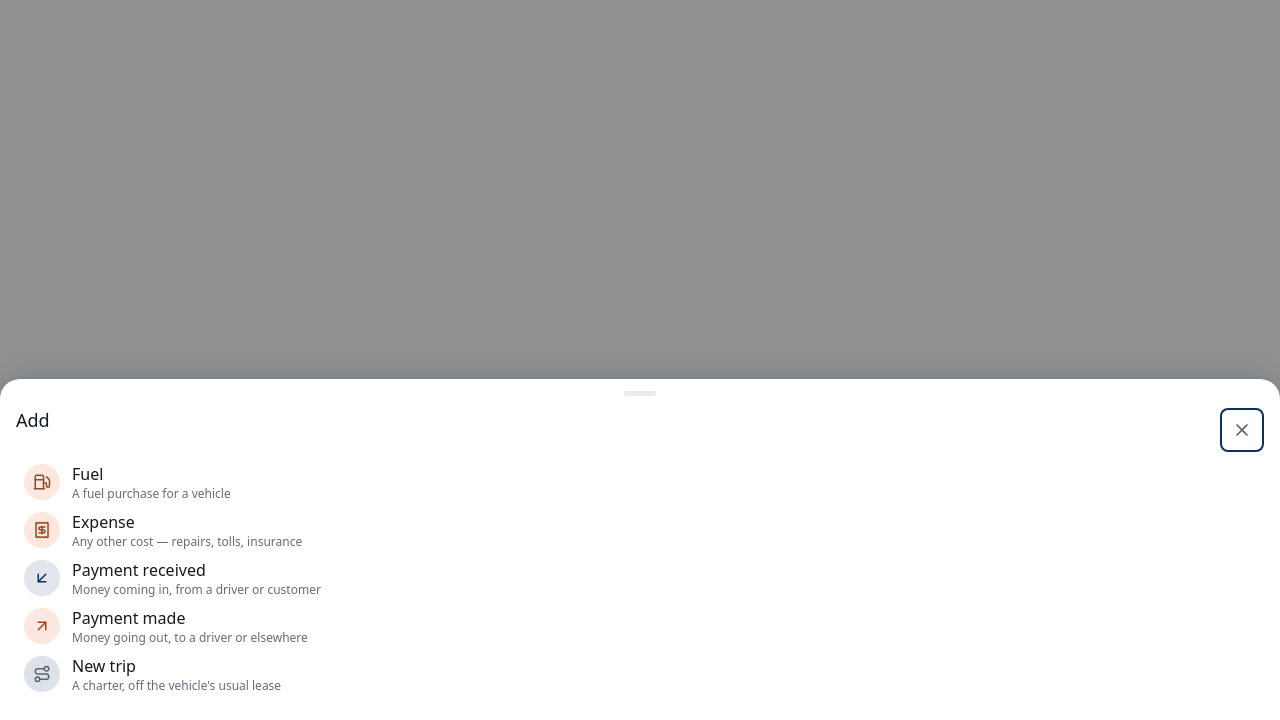
Test case: GAP-101: a failed customer-list read shows a notice in the Payment received picker
Click the button "Payment received Money coming in, from a driver or customer": [42, 578] box x1=16 y1=556 x2=1264 y2=600
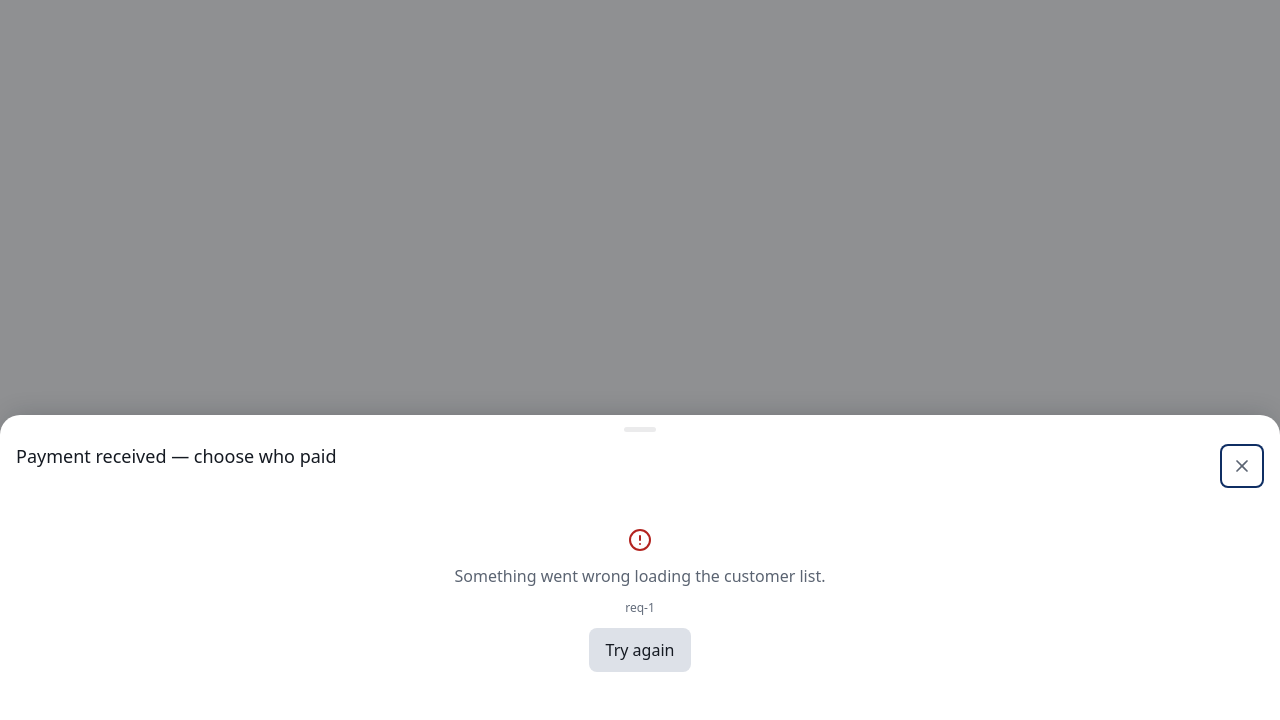
Check: the text "Something went wrong loading the customer list." is shown, box x1=454 y1=564 x2=825 y2=588
